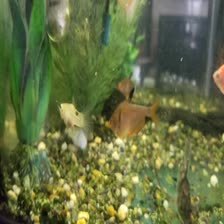Guppy: (33, 0, 79, 45), (54, 92, 85, 126)
Transparente: (103, 84, 161, 136)
